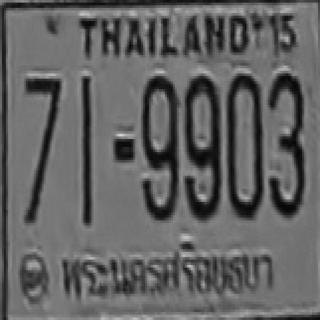N00: (225, 72, 262, 216), (141, 73, 177, 165), (183, 73, 219, 163)
N01: (80, 74, 92, 202)
N03: (266, 71, 304, 215)
N07: (24, 76, 60, 215), (24, 76, 60, 184), (24, 76, 60, 168)
N09: (140, 73, 178, 218), (183, 73, 219, 218)
P03: (52, 235, 283, 309)
